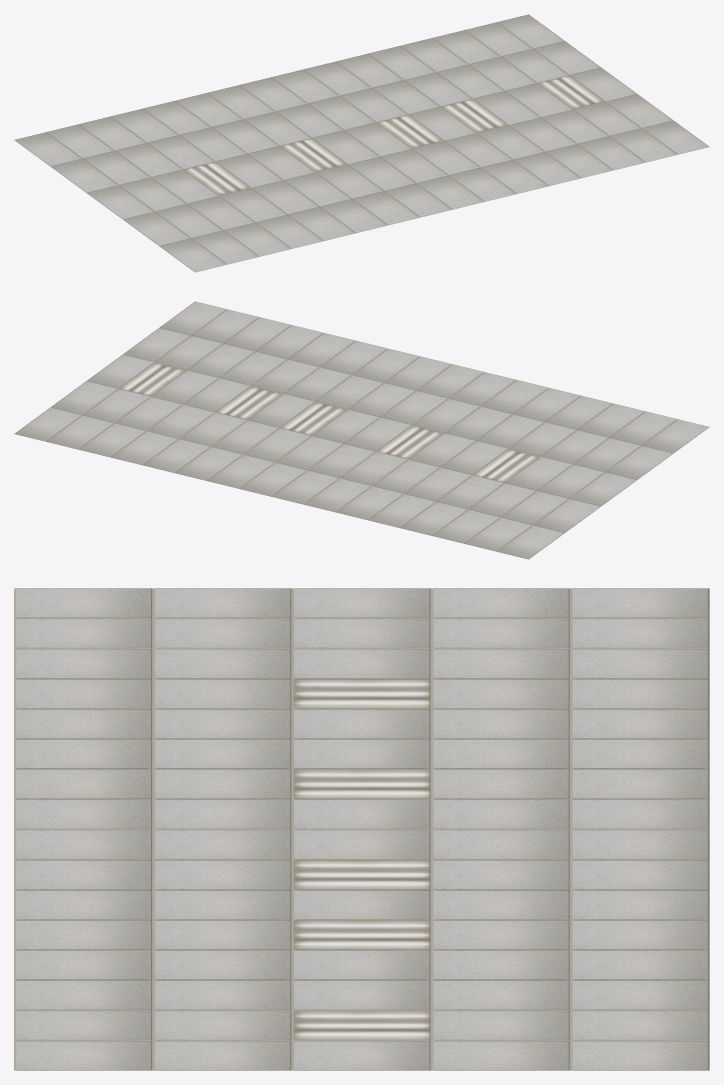
The model's file is RoboTHOR_ceiling.fbx.
3 views of the same model, one above another, from view 1: azimuth 30°, elevation 25°; view 2: azimuth 150°, elevation 25°; view 3: azimuth 270°, elevation 25° (orthographic). The views are drawn at different scales.
Parts seen in each view (by area): view 1: robothor_ceiling; view 2: robothor_ceiling; view 3: robothor_ceiling.
Part boxes in pixels (left/top/right/bottom): robothor_ceiling: left=14, top=14, right=709, bottom=272; robothor_ceiling: left=14, top=301, right=709, bottom=559; robothor_ceiling: left=14, top=588, right=709, bottom=1070.
Size of the model in its own units: 976 by 0 by 595.
